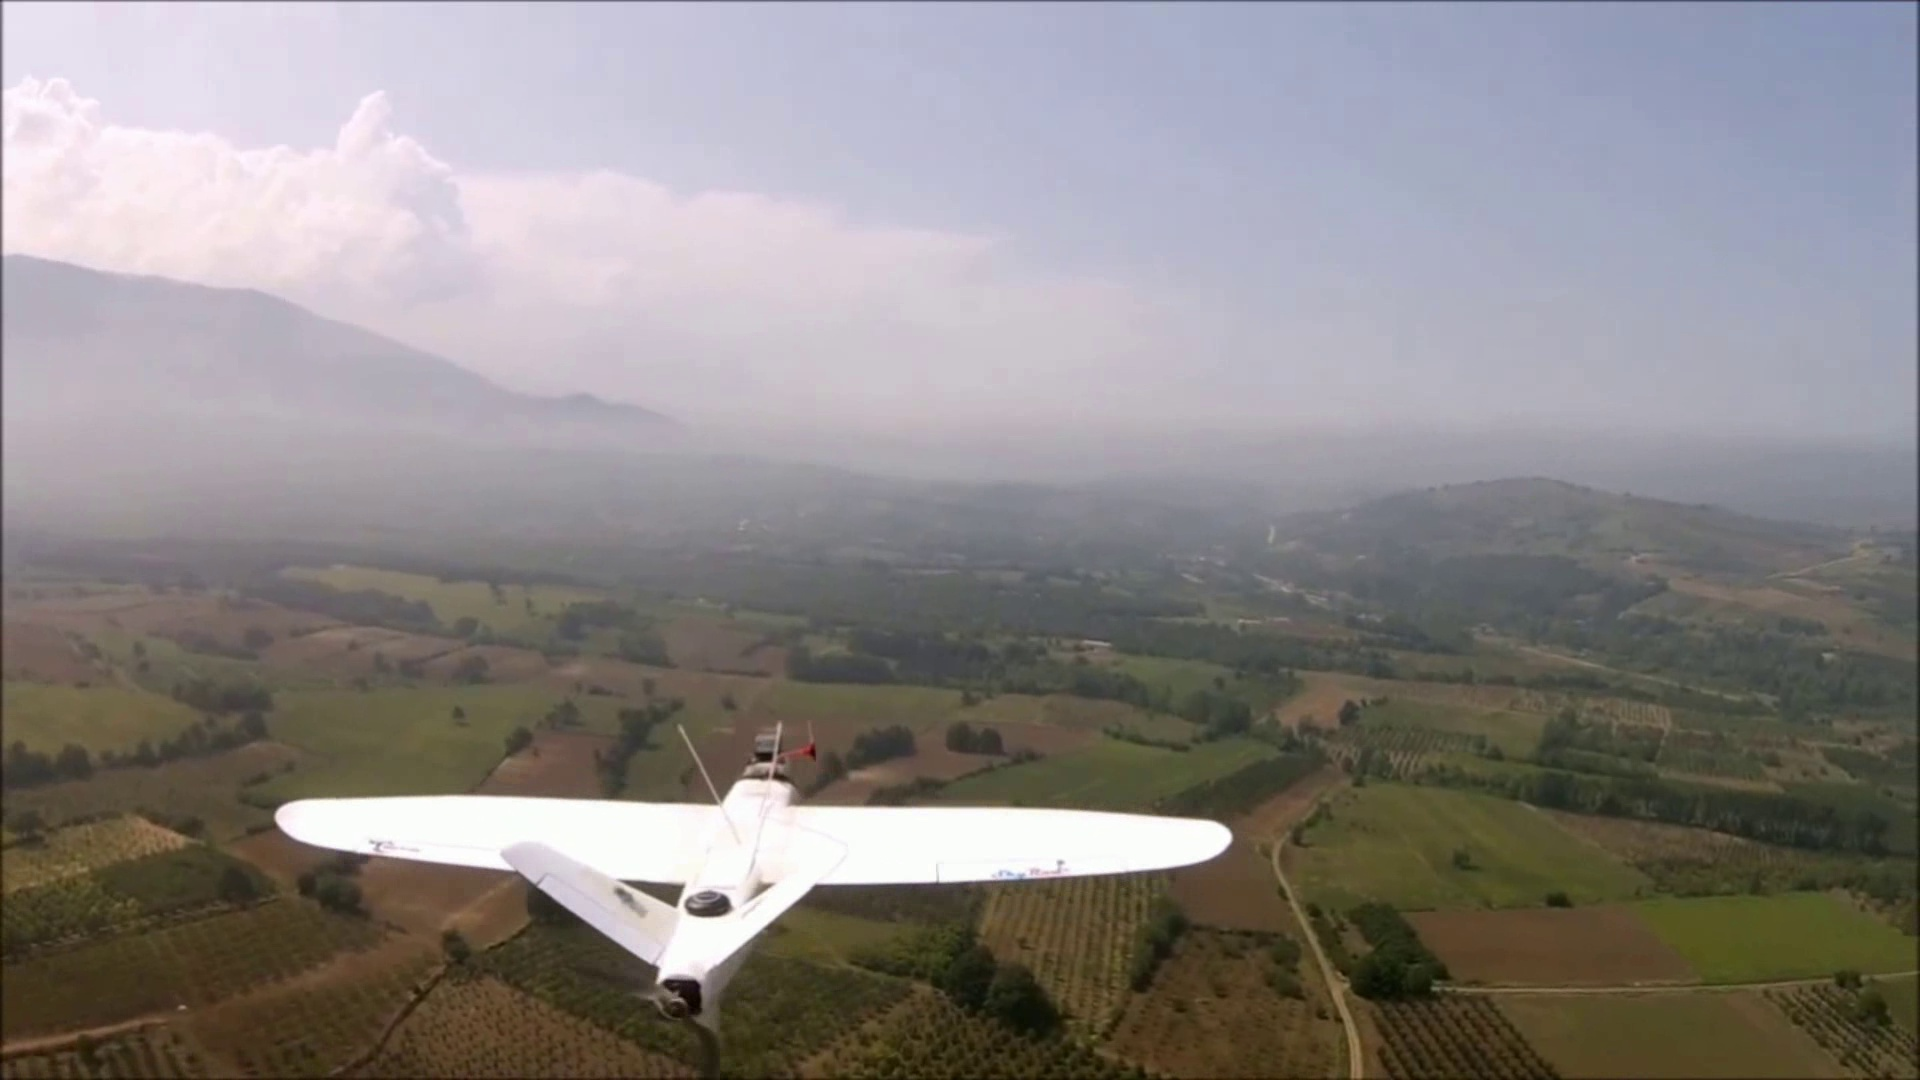airplane: (271, 720, 1234, 1043)
